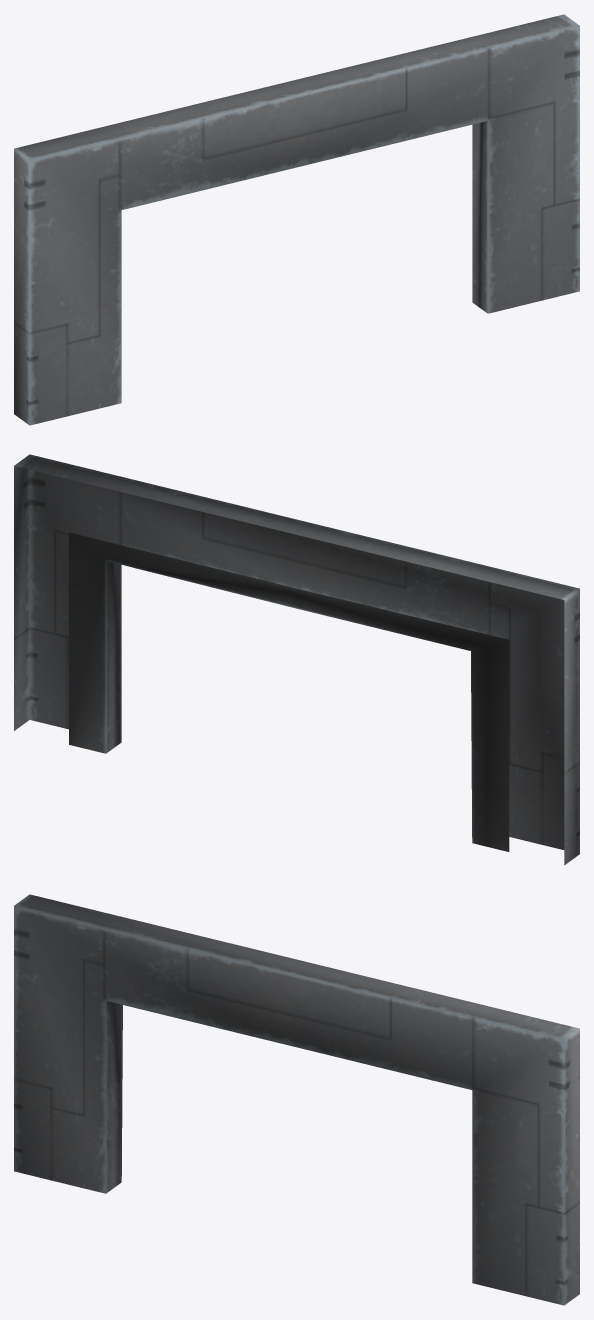
File: Spaceship_roomenter_mdl.fbx
3 views of the same model, one above another, from view 1: azimuth 30°, elevation 25°; view 2: azimuth 150°, elevation 25°; view 3: azimuth 330°, elevation 25° (orthographic).
Visible parts, largest first — view 1: spaceship_roomentar_mdl; view 2: spaceship_roomentar_mdl; view 3: spaceship_roomentar_mdl.
Part boxes in pixels (bbox=[...]): spaceship_roomentar_mdl: bbox=[14, 14, 579, 425]; spaceship_roomentar_mdl: bbox=[14, 454, 579, 865]; spaceship_roomentar_mdl: bbox=[14, 894, 579, 1305].
Size of the model in its own units: 214 by 98.8 by 11.5.
